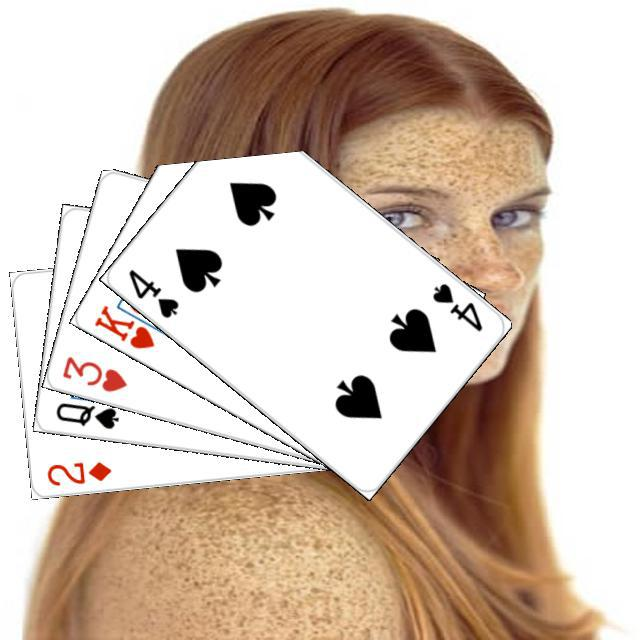2d: (42, 456, 113, 488)
3h: (57, 351, 129, 394)
4s: (123, 264, 181, 320), (427, 278, 485, 334)
Kh: (89, 297, 170, 351)
Qs: (51, 398, 120, 431)
